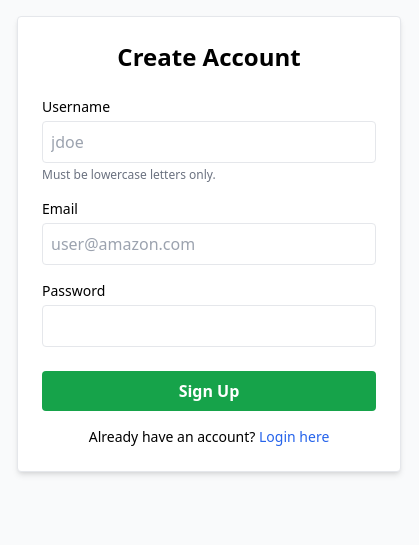
Test: RegisterForm › should show error message when registration fails
Type "testuser" into the field with placeholder "jdoe". click: (209, 142)
box: [42,121,376,163]
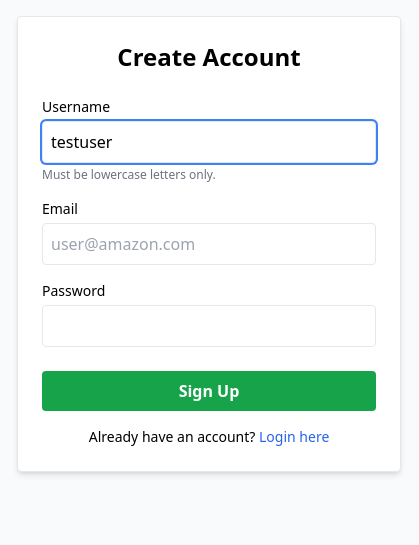
Type "test@amazon.com" into the field with placeholder "user@amazon.com". click: (209, 244)
box: [42,223,376,265]
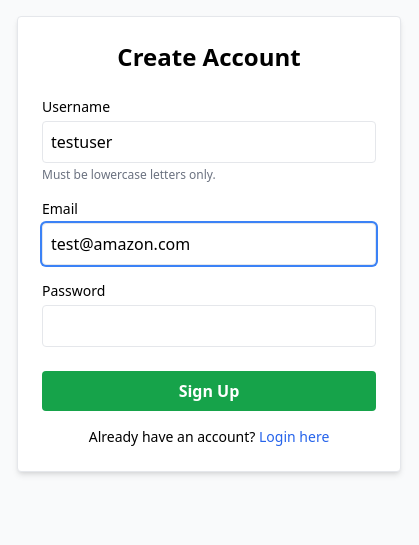
Type "password123" into the password field. click: (209, 326)
box: [42,305,376,347]
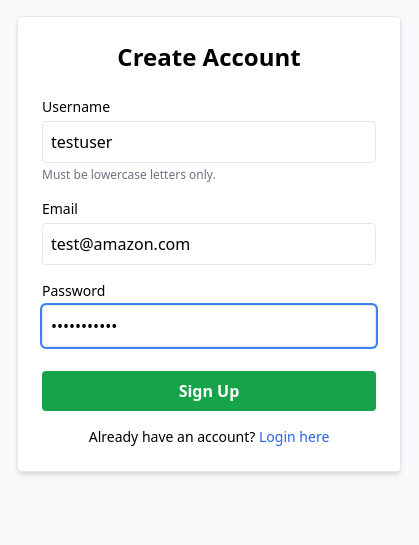
Click the button "Sign Up". click: click(209, 391)
box: [42,371,376,411]
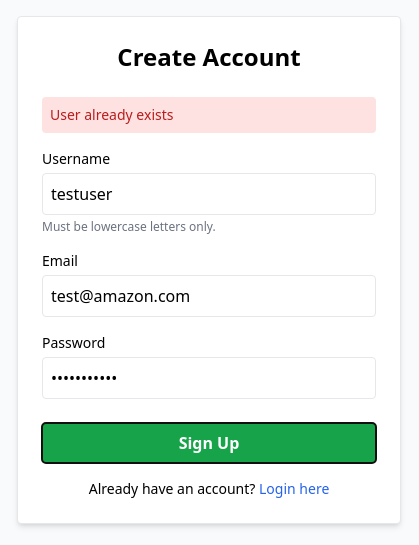
Check: the text "User already exists" is shown, box [42,97,376,133]
